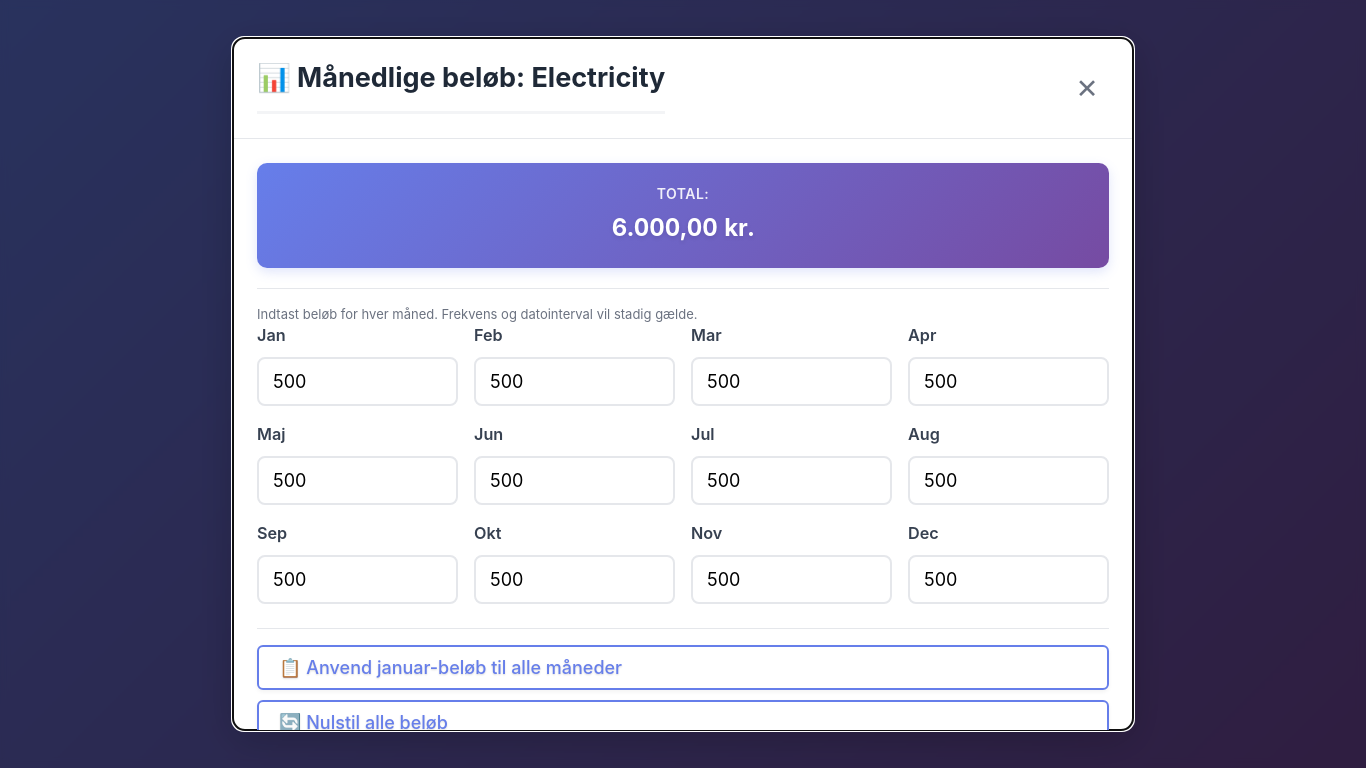
Test case: MonthlyAmountsModal › applies january amount to all months
The image size is (1366, 768).
Replace the text in the field labelled "Jan" with "750": (358, 381) [257, 357, 458, 406]
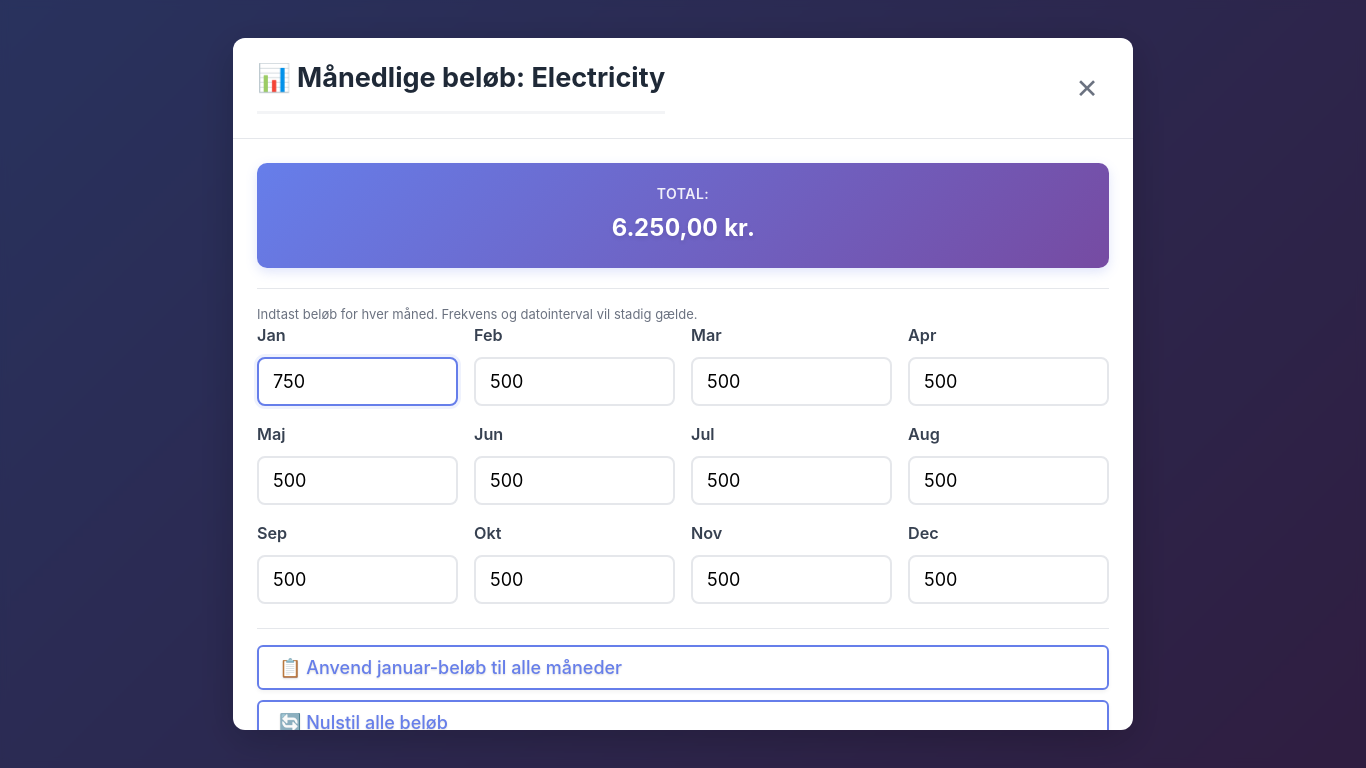
Click the button "📋 Anvend januar-beløb til alle måneder": (451, 667) [257, 644, 1109, 690]
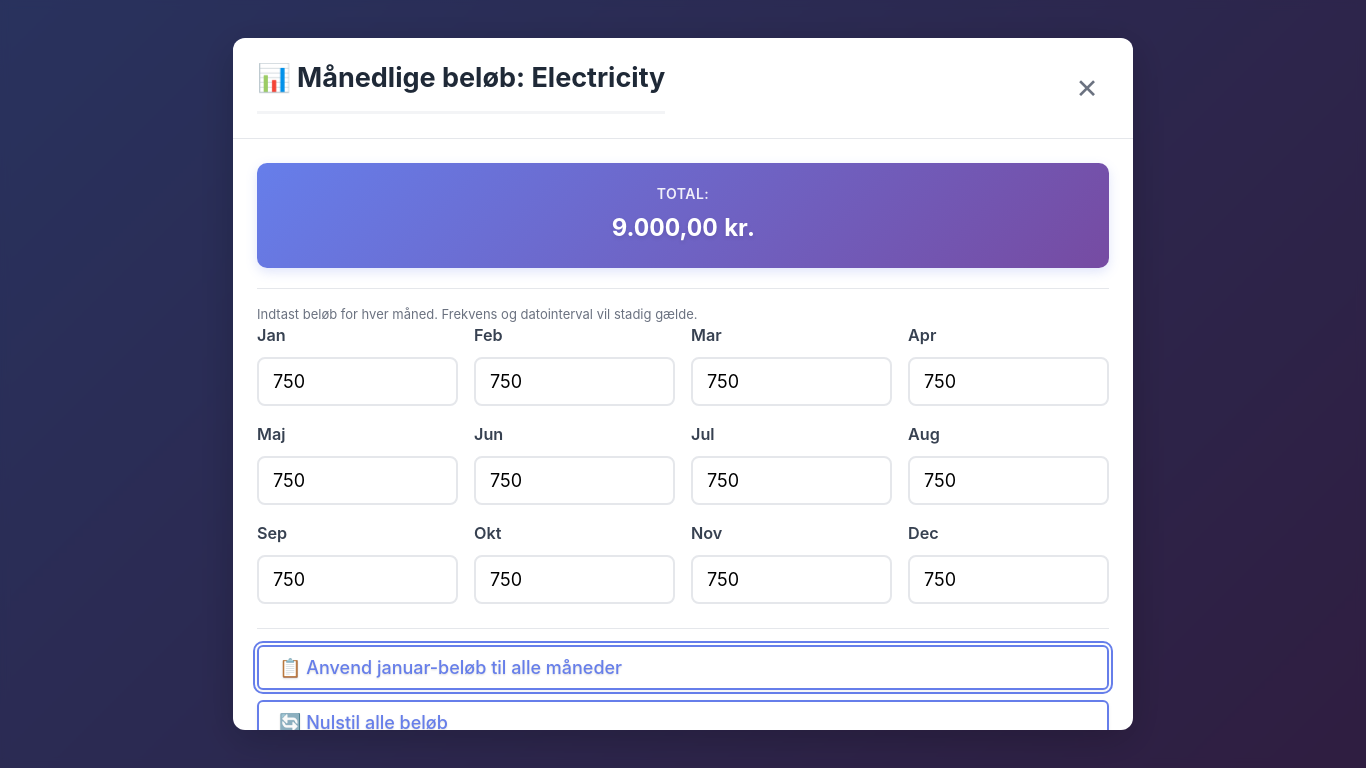
Check: the field labelled "Feb" holds "750", box [474, 357, 675, 406]
Check: the field labelled "Mar" holds "750", box [691, 357, 892, 406]
Check: the field labelled "Apr" holds "750", box [908, 357, 1109, 406]
